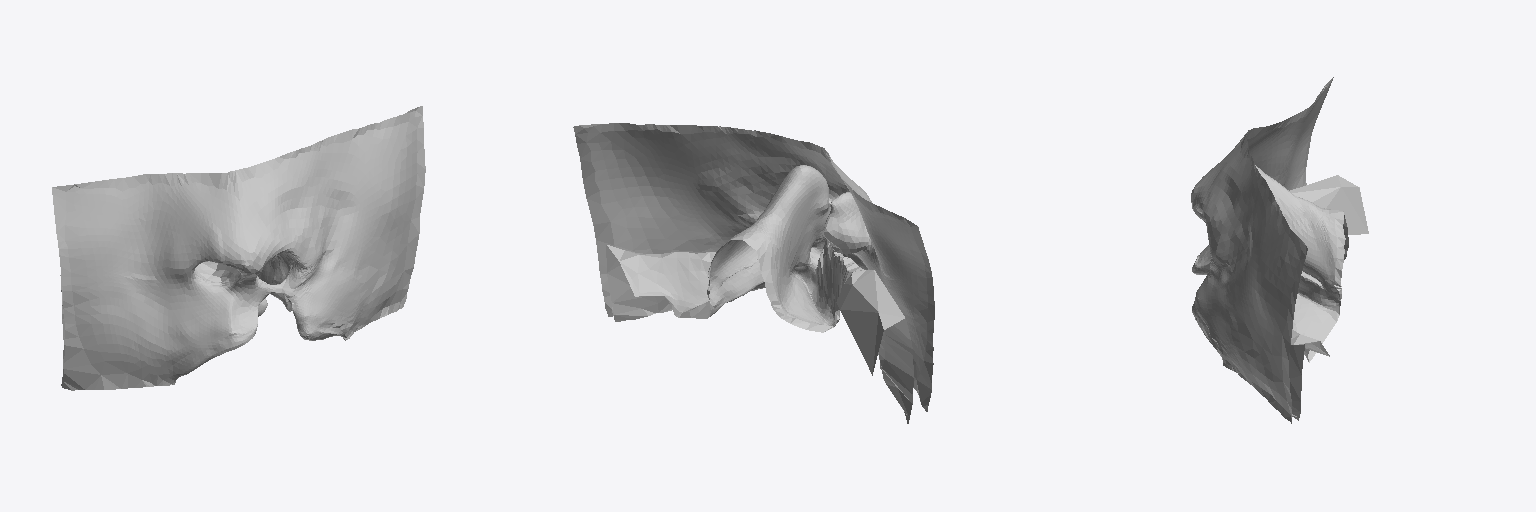
File: unilatIncompleteCleft_2_deepBed.obj
3 renders of one model, left to right at view 1: azimuth 30°, elevation 25°; view 2: azimuth 150°, elevation 25°; view 3: azimuth 270°, elevation 25°, orthographic.
Size of the model in its own units: 3.92 by 2.26 by 1.68.